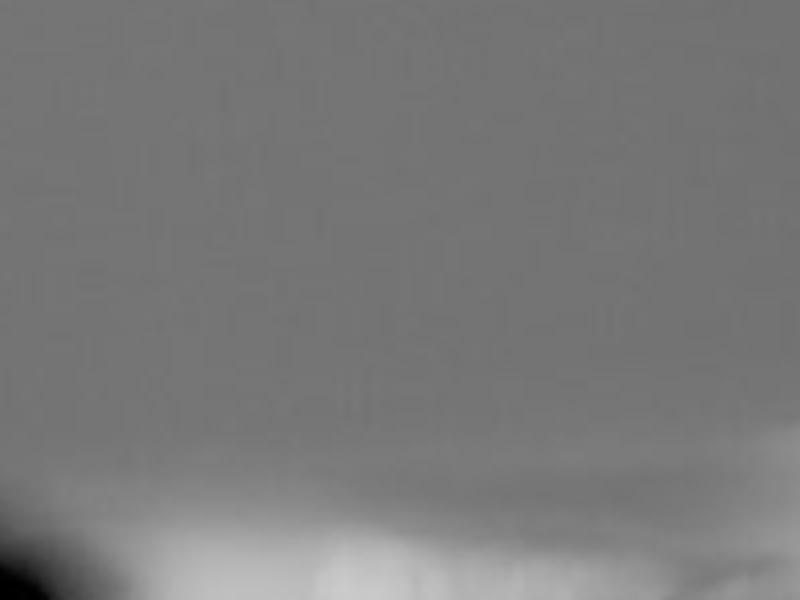defect: (2, 528, 109, 598)
